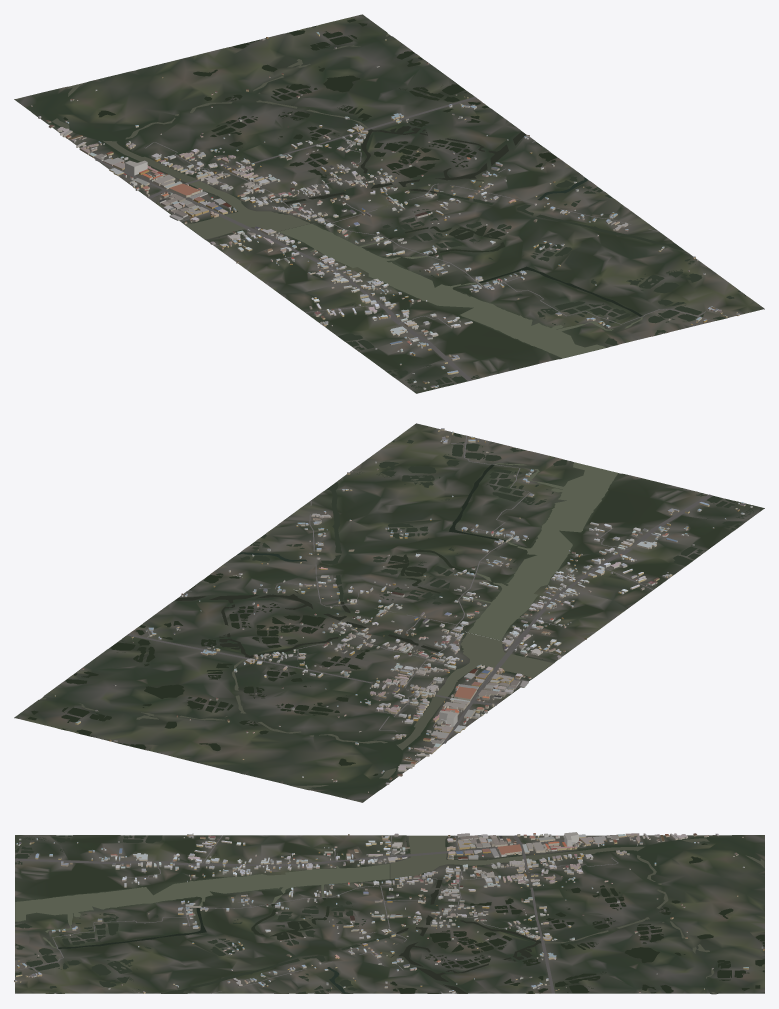
The picture shows the model from 3 angles, top to bottom: view 1: azimuth 30°, elevation 25°; view 2: azimuth 150°, elevation 25°; view 3: azimuth 270°, elevation 25°; orthographic projection. The views are drawn at different scales.
Visible parts, largest first — view 1: ground, water, buildings, roads; view 2: ground, water, buildings, roads; view 3: ground, water, buildings, roads.
Part boxes in pixels (bbox=[...]): ground: bbox=[14, 14, 764, 393]; water: bbox=[52, 19, 745, 388]; buildings: bbox=[31, 32, 740, 389]; roads: bbox=[95, 97, 714, 380]; ground: bbox=[14, 423, 764, 802]; water: bbox=[28, 432, 753, 789]; buildings: bbox=[54, 428, 752, 792]; roads: bbox=[127, 435, 712, 743]; ground: bbox=[15, 835, 764, 994]; water: bbox=[15, 835, 764, 993]; buildings: bbox=[14, 832, 764, 993]; roads: bbox=[15, 835, 618, 993].
Size of the model in its own units: 1415 by 36.81 by 2805.
